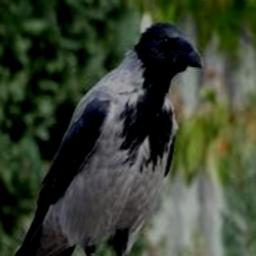Crow: (0, 22, 202, 256)
